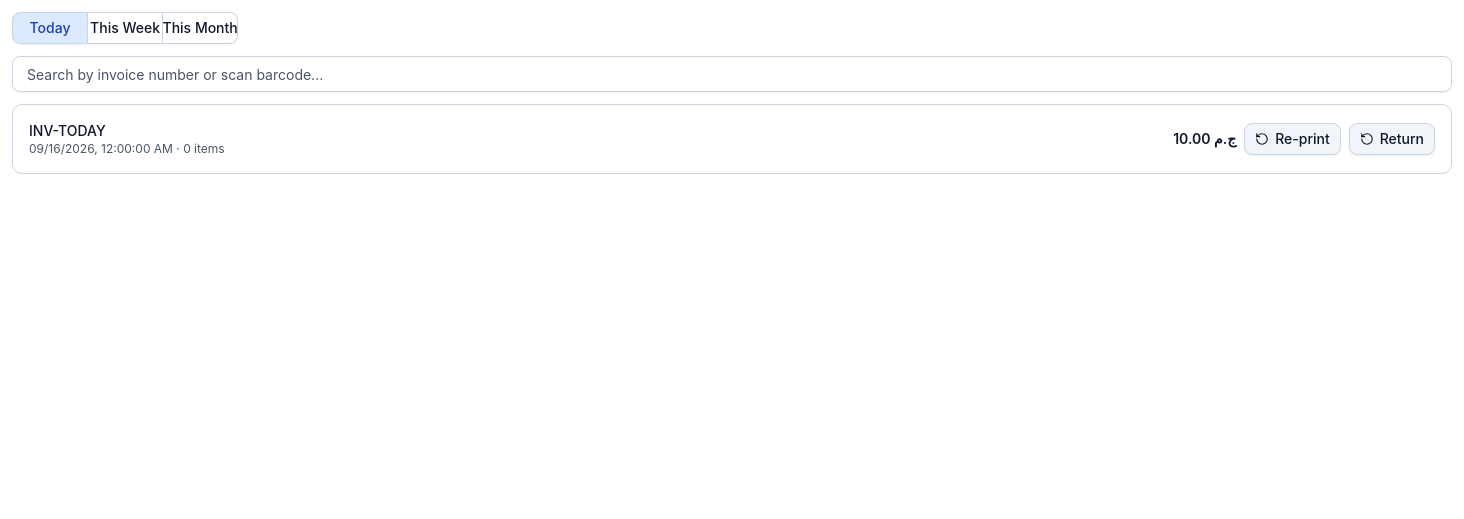
Test: SalesHistory ranges › includes exact boundaries and combines range with invoice search
Expected: the text "INV-TODAY" is shown, [29,122,106,139]
Expected: the text "INV-YESTERDAY" is not shown
Click the radio button labelled "This Week": (126, 28) [88,12,163,44]
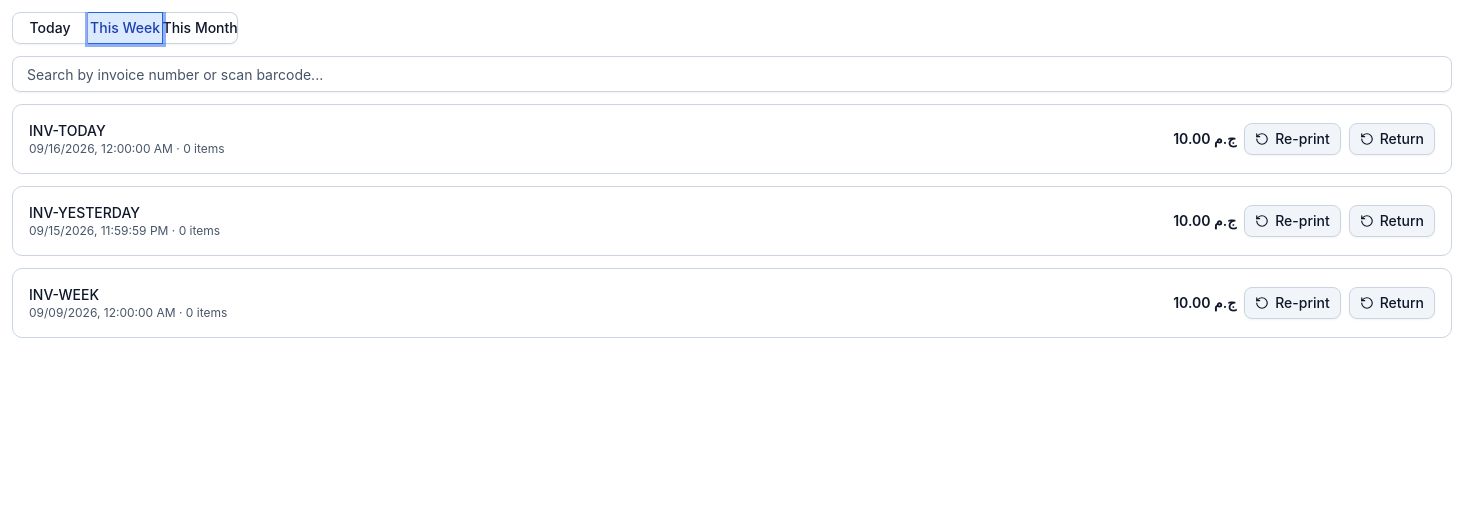
Expected: the text "INV-BEFORE-WEEK" is not shown
Now the text "INV-WEEK" is shown, box [29,286,99,303]
Click the radio button labelled "This Month": (201, 28) [163,12,238,44]
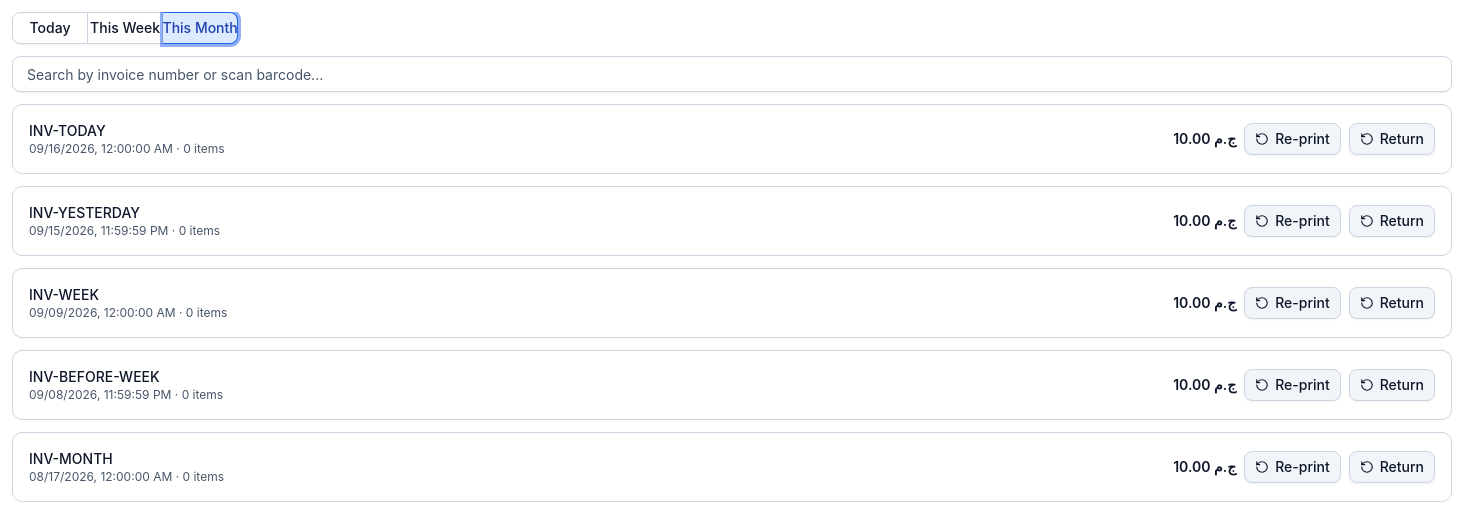
Now the text "INV-MONTH" is shown, box [29,450,113,467]
In the field named "Search invoices": (732, 74) [12,56,1452,92], type "inv-month"
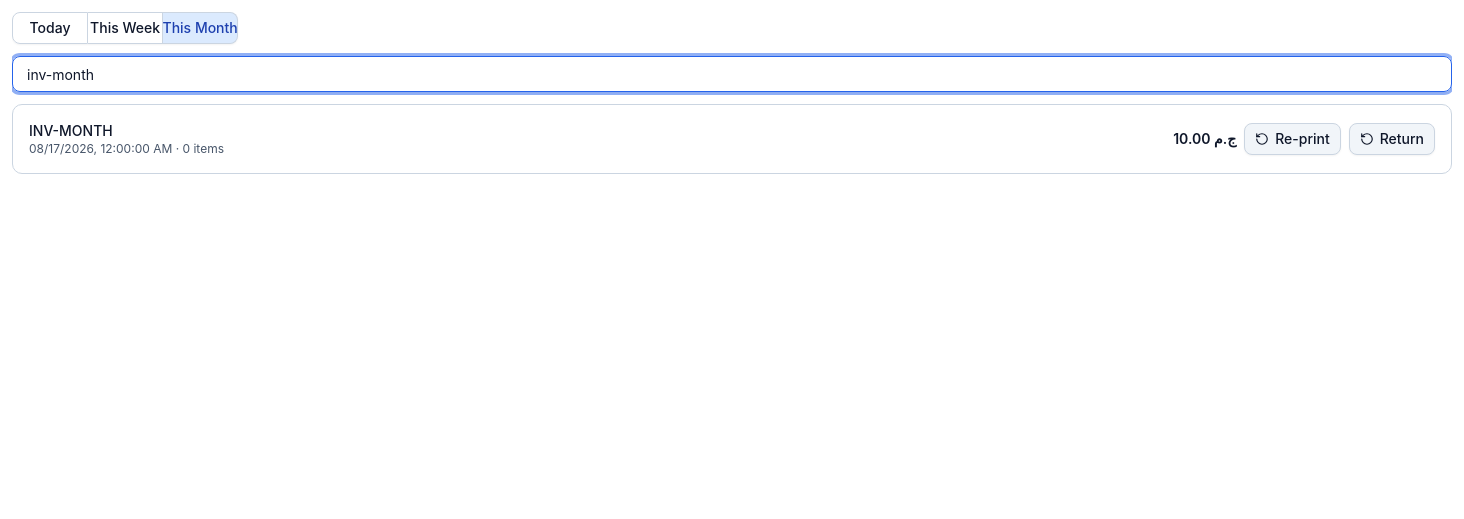
Now the text "INV-TODAY" is gone
Click the button with aria-label "Re-print receipt INV-MONTH": (1292, 139) [1244,123,1341,155]
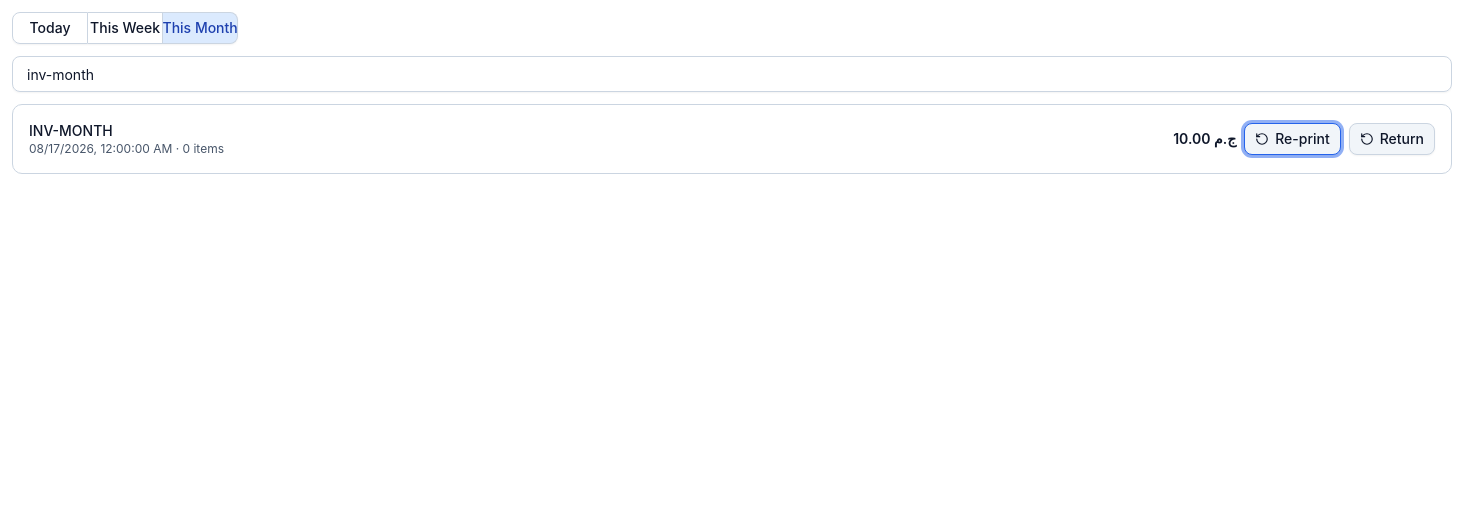
Click the radio button labelled "Today": (50, 28) [12,12,88,44]
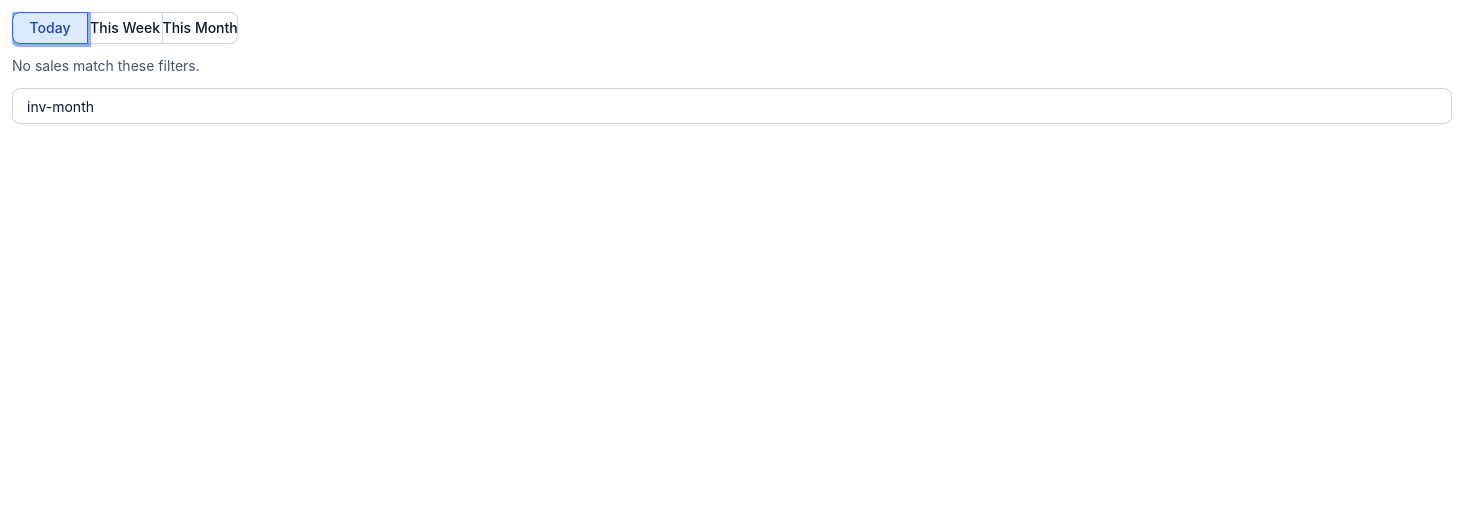
Expected: the radio button labelled "This Month" is shown, [163,12,238,44]
Now the message reads "No sales match these filters.", box [12,57,200,74]
